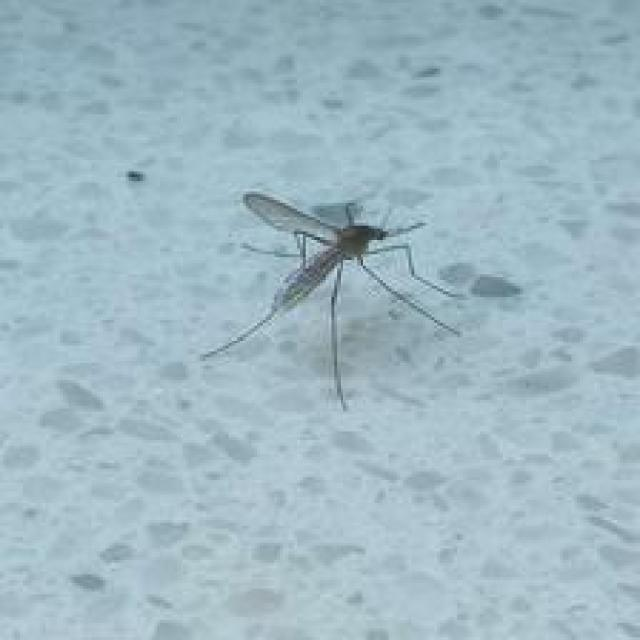Culex: (199, 188, 464, 412)
